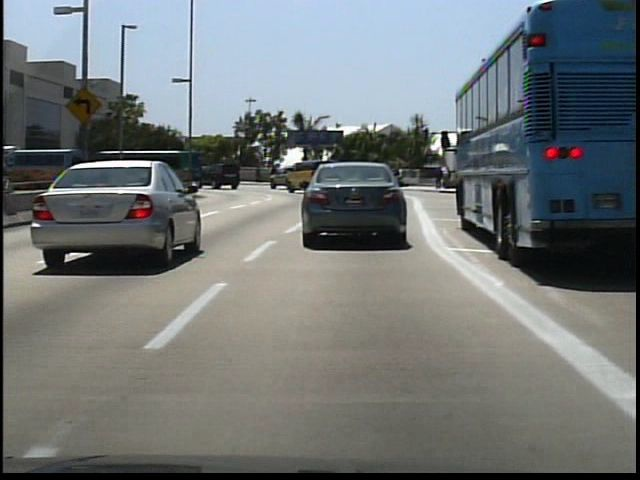person: (431, 165, 445, 192), (254, 161, 264, 182)
